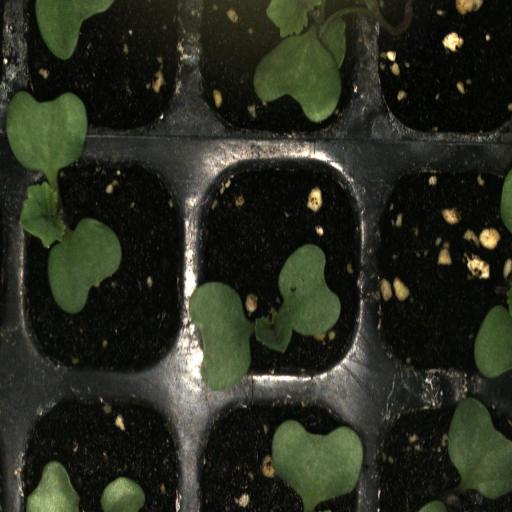Folha: (253, 0, 352, 123), (272, 420, 364, 512), (447, 397, 512, 499), (35, 0, 114, 60), (26, 460, 79, 512)
Germinacao: (192, 150, 371, 386), (13, 149, 189, 385)
